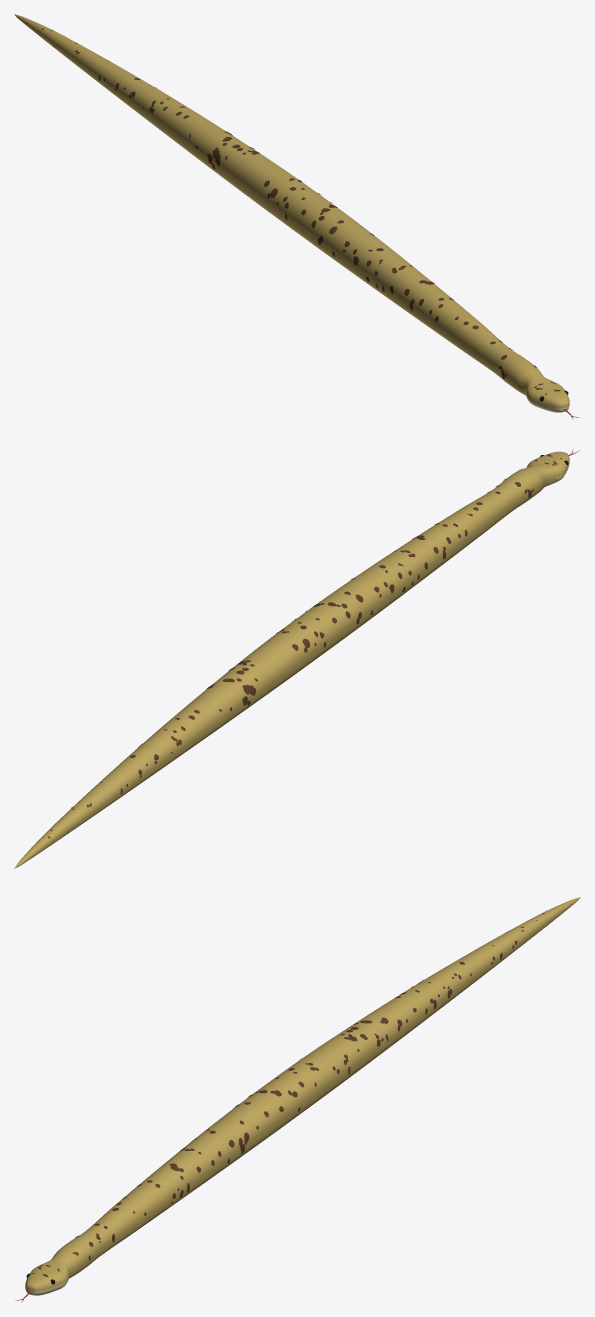
File: adder.glb
3 renders of one model, top to bottom at view 1: azimuth 30°, elevation 25°; view 2: azimuth 150°, elevation 25°; view 3: azimuth 330°, elevation 25°, orthographic.
Parts seen in each view (by area): view 1: seg_3, seg_2, seg_4, seg_5, seg_1, seg_6, seg_3_speckles; view 2: seg_4, seg_3, seg_5, seg_2, seg_1, seg_6, seg_3_speckles, seg_4_speckles; view 3: seg_3, seg_2, seg_4, seg_5, seg_1, seg_6, seg_3_speckles, seg_4_speckles.
Boxes of the visible parts, x1,y1,x2,y2 form: seg_3: (276, 184, 400, 287); seg_2: (371, 255, 491, 356); seg_4: (185, 121, 306, 218); seg_5: (97, 63, 210, 150); seg_1: (469, 331, 569, 408); seg_6: (14, 14, 113, 82); seg_3_speckles: (276, 187, 383, 281); seg_4: (190, 627, 313, 731); seg_3: (282, 561, 406, 662); seg_5: (100, 701, 217, 799); seg_2: (378, 500, 495, 593); seg_1: (475, 451, 569, 524); seg_6: (14, 780, 117, 868); seg_3_speckles: (293, 565, 405, 647); seg_4_speckles: (207, 629, 310, 711); seg_3: (195, 1067, 318, 1170); seg_2: (103, 1138, 223, 1239); seg_4: (288, 1004, 409, 1101); seg_5: (384, 946, 497, 1033); seg_1: (25, 1214, 125, 1291); seg_6: (481, 897, 580, 965); seg_3_speckles: (207, 1068, 316, 1163); seg_4_speckles: (301, 1017, 408, 1074).
Size of the model in its own units: 0.0408 by 0.036 by 1.02.
